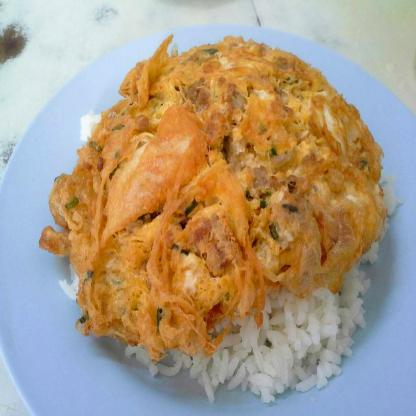Omelette: (34, 43, 382, 390)
